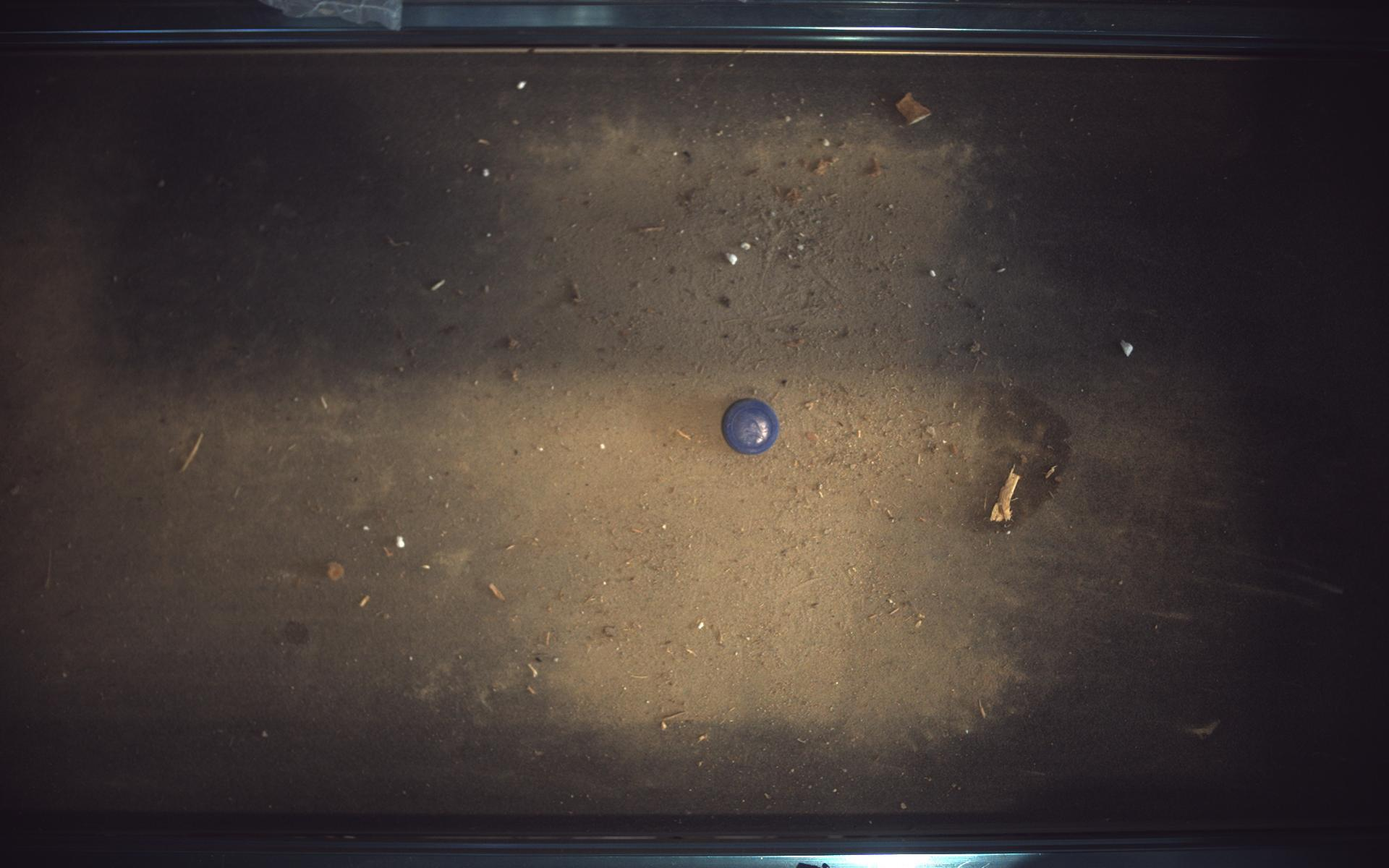general_w: (723, 400, 781, 455)
